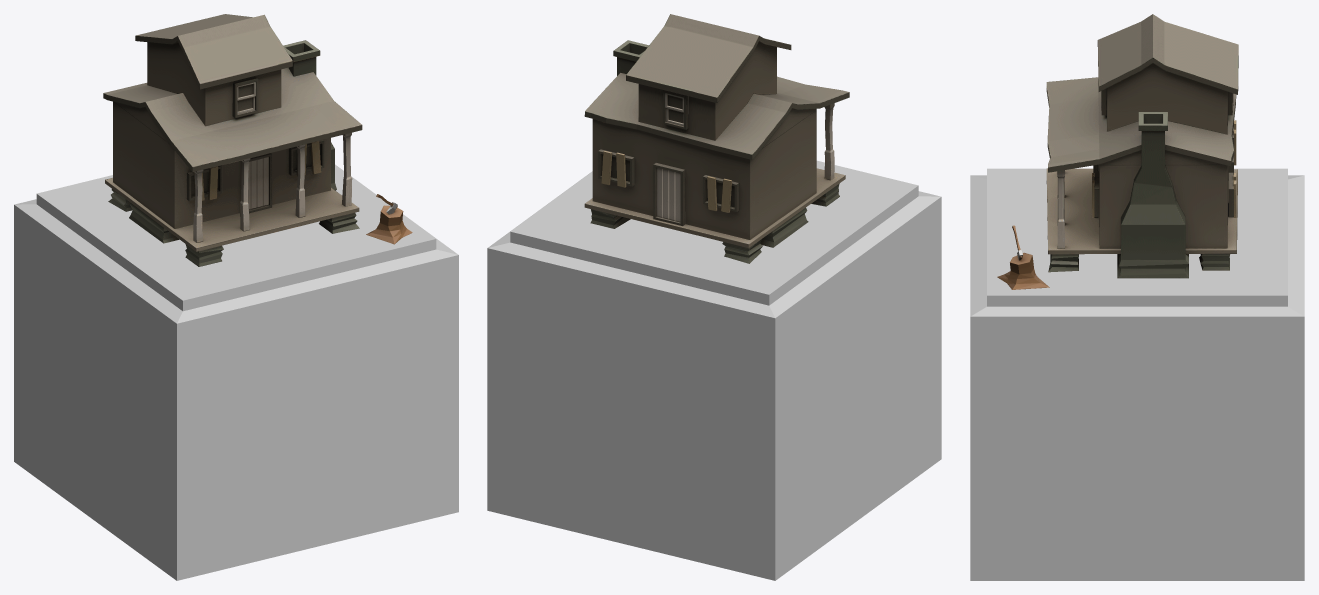
File: tile_spawner_playerhouse.fbx
The picture shows the model from 3 angles, left to right: view 1: azimuth 30°, elevation 25°; view 2: azimuth 150°, elevation 25°; view 3: azimuth 270°, elevation 25°; orthographic projection. The views are drawn at different scales.
Parts seen in each view (by area): view 1: Tile, LowerLever, Ground; view 2: Tile, LowerLever, Ground; view 3: Tile, LowerLever, Ground.
Part boxes in pixels (left/top/right/bottom): Tile: left=14, top=164, right=458, bottom=580; LowerLever: left=103, top=14, right=412, bottom=266; Ground: left=36, top=165, right=436, bottom=311; Tile: left=487, top=171, right=941, bottom=580; LowerLever: left=584, top=14, right=849, bottom=263; Ground: left=510, top=160, right=918, bottom=305; Tile: left=970, top=175, right=1304, bottom=580; LowerLever: left=997, top=14, right=1238, bottom=289; Ground: left=987, top=168, right=1287, bottom=306.
Bounding box in the file's own units: 0.04 × 0.0621 × 0.04.
